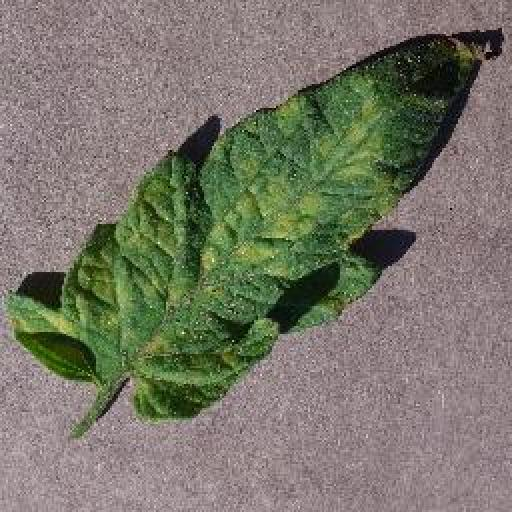Leaf Mold: (7, 32, 498, 421)
